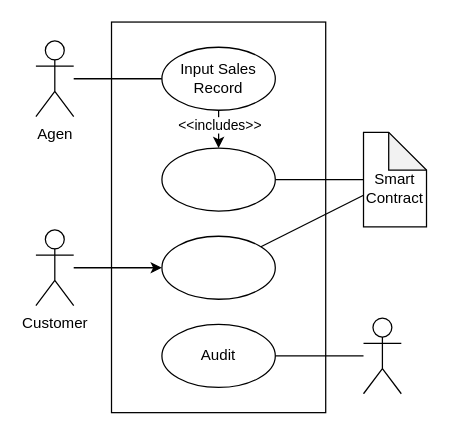
This 449x442 diagram has some shape labels left out. The box of each missing label's shape, as (x1, y1, x2, y2) in pixels:
Auditor: (362, 317, 401, 394)
make payment: (161, 235, 275, 299)
Validation: (161, 147, 275, 211)
